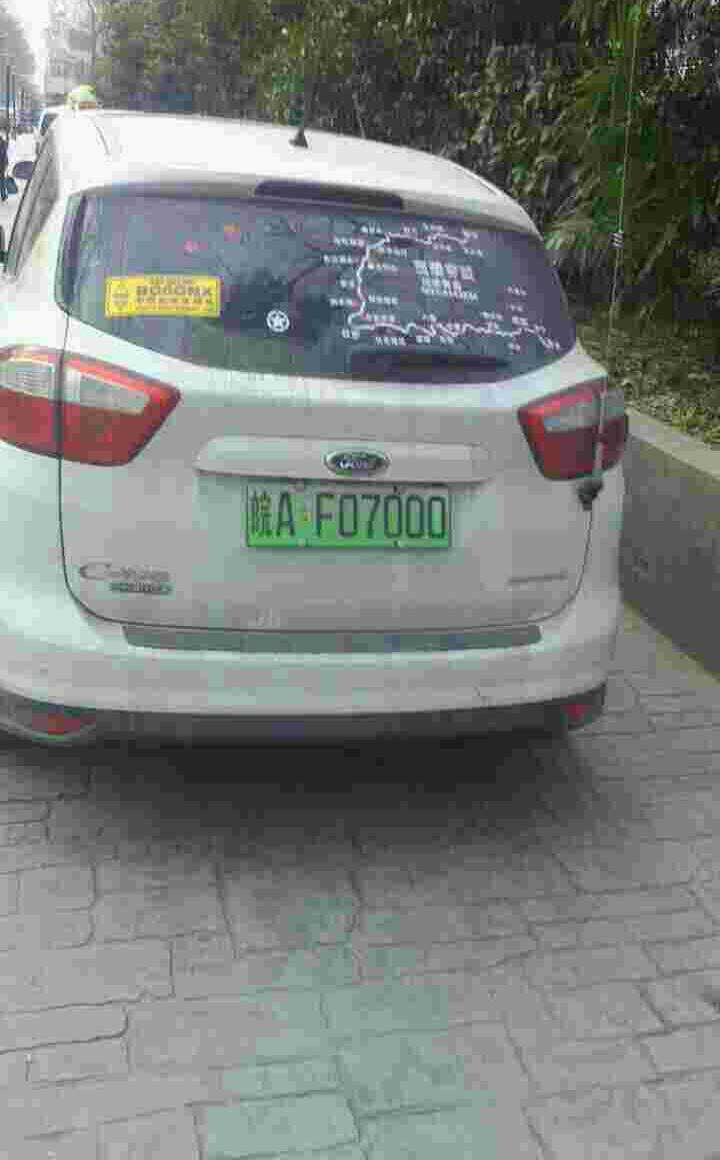car_id: (243, 480, 450, 543)
